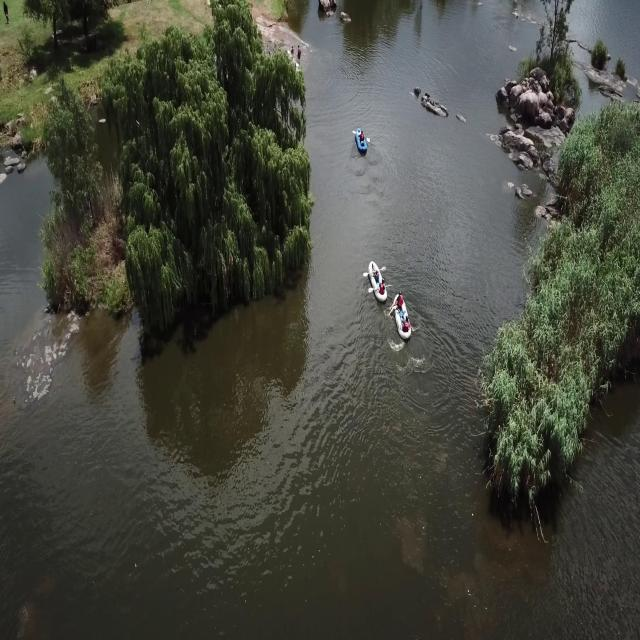kayak: (392, 289, 412, 343), (363, 261, 389, 299), (354, 128, 369, 156)
